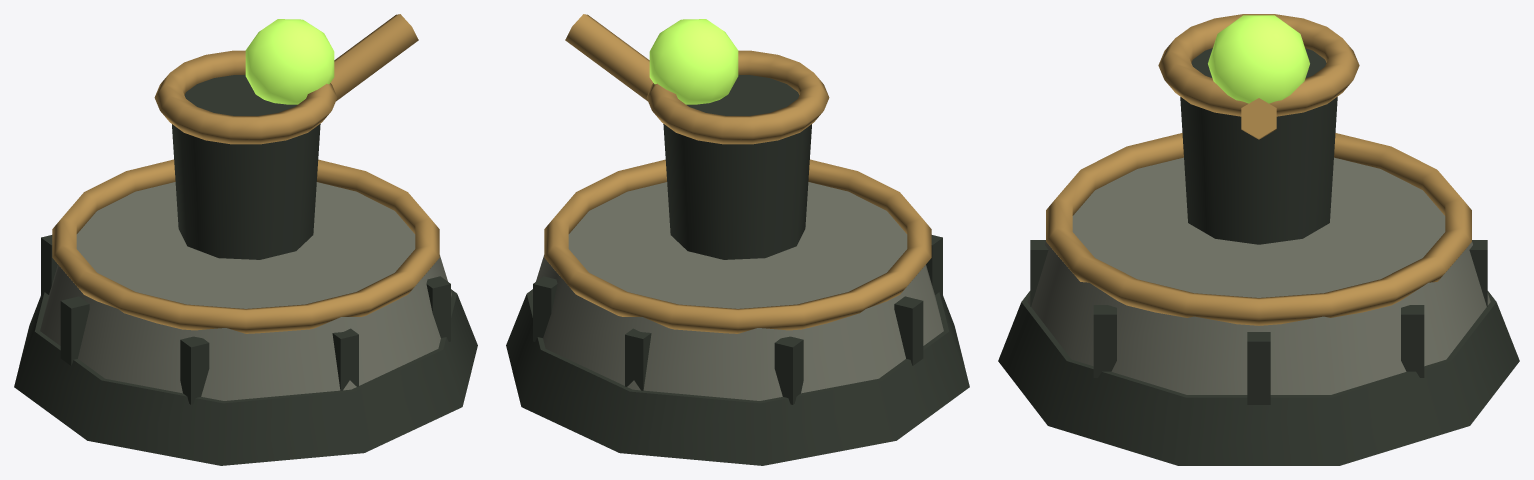
File: tower_poison.glb
3 views of the same model, side by side, from view 1: azimuth 30°, elevation 25°; view 2: azimuth 150°, elevation 25°; view 3: azimuth 270°, elevation 25° (orthographic). The views are drawn at different scales.
Visible parts, largest first — view 1: stone_1, foot_0, vessel_11, rim_2, vessel_lip_13, gland_15, needle_14, mortar_6, mortar_7, mortar_5, mortar_4, mortar_8; view 2: stone_1, foot_0, vessel_11, rim_2, vessel_lip_13, gland_15, needle_14, mortar_8, mortar_7, mortar_9, mortar_10, mortar_6; view 3: stone_1, foot_0, rim_2, vessel_11, vessel_lip_13, gland_15, mortar_3, mortar_4, mortar_10, needle_14, mortar_5, mortar_9.
Part boxes in pixels (x1,y1,x2,y2): stone_1: (40,182,451,400); foot_0: (14,289,477,465); vessel_11: (172,75,320,259); rim_2: (52,159,439,333); vessel_lip_13: (154,50,337,144); gland_15: (245,19,334,104); needle_14: (330,14,418,101); mortar_6: (180,336,209,404); mortar_7: (60,296,89,365); mortar_5: (332,328,358,390); mortar_4: (426,276,450,341); mortar_8: (41,235,57,296); stone_1: (532,182,943,400); foot_0: (506,289,969,465); vessel_11: (663,75,811,259); rim_2: (544,159,931,333); vessel_lip_13: (646,50,829,144); gland_15: (649,19,738,104); needle_14: (565,14,653,101); mortar_8: (774,336,803,404); mortar_7: (894,296,923,365); mortar_9: (625,328,651,390); mortar_10: (533,276,557,341); mortar_6: (926,235,942,296); stone_1: (1027,157,1490,394); foot_0: (998,291,1519,465); rim_2: (1046,133,1471,325); vessel_11: (1180,48,1337,244); vessel_lip_13: (1158,14,1359,116); gland_15: (1208,15,1309,103); mortar_3: (1247,332,1270,404); mortar_4: (1093,305,1116,377); mortar_10: (1401,305,1424,377); needle_14: (1241,98,1276,139); mortar_5: (1030,240,1048,306); mortar_9: (1469,240,1487,306).
Bounding box in the file's own units: 0.5326 × 0.435 × 0.56.
